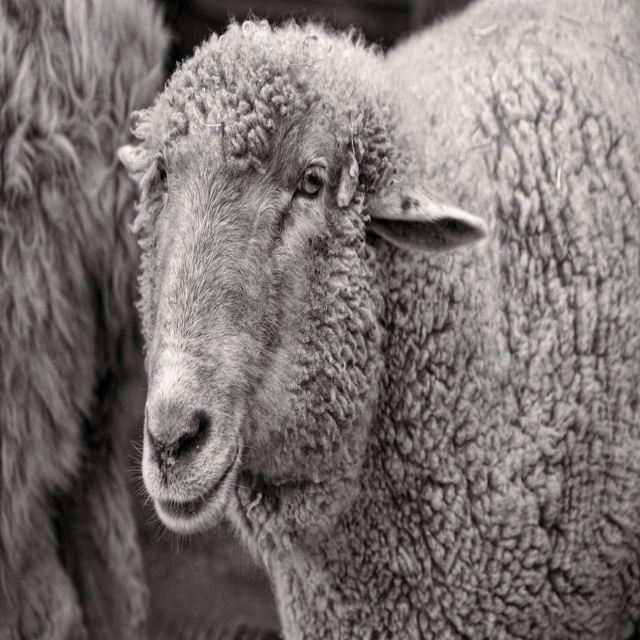Sheep: (108, 0, 640, 639)
